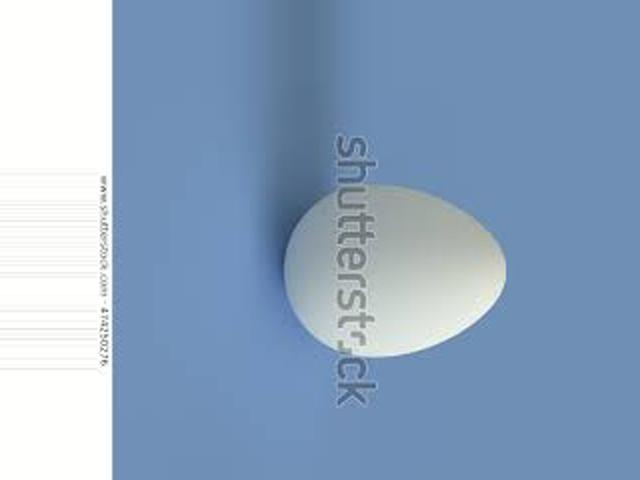egg: (280, 184, 504, 358)
